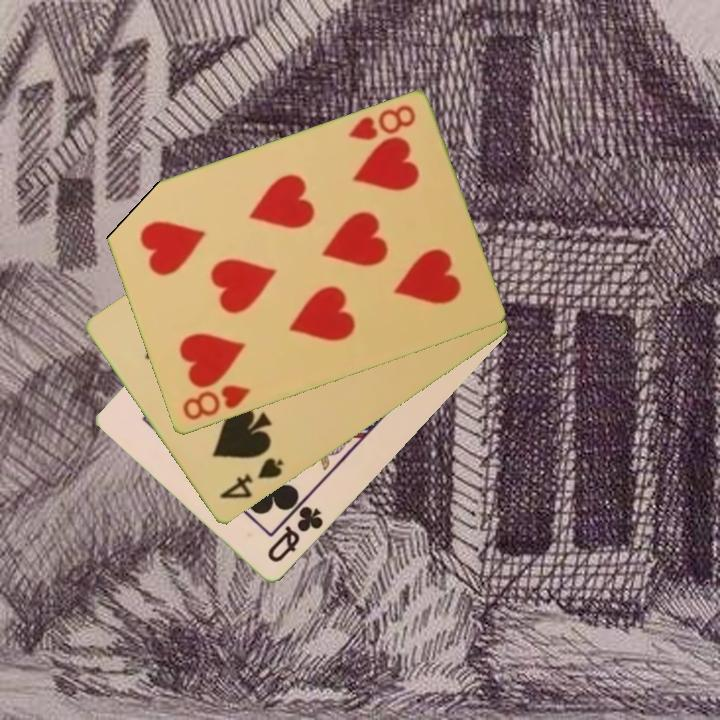4s: (215, 454, 287, 503)
8h: (178, 382, 254, 424), (344, 102, 418, 144)
Qc: (263, 502, 327, 566)
